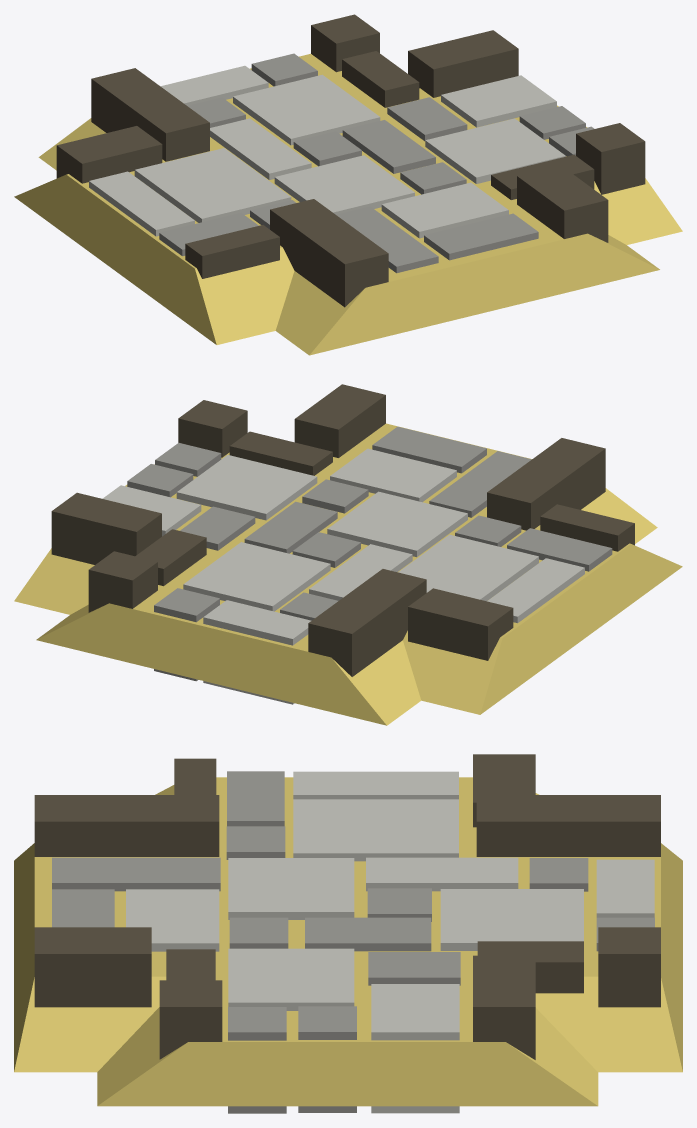
The model's file is stoneroad_fourway.fbx.
3 renders of one model, top to bottom at view 1: azimuth 30°, elevation 25°; view 2: azimuth 150°, elevation 25°; view 3: azimuth 270°, elevation 25°, orthographic. The views are drawn at different scales.
Parts seen in each view (by area): view 1: pCube3; view 2: pCube3; view 3: pCube3.
Part boxes in pixels (x1,y1,x2,y2): pCube3: [14, 14, 682, 355]; pCube3: [14, 384, 682, 725]; pCube3: [14, 754, 682, 1113].
Size of the model in its own units: 106 by 19.07 by 107.
Materials: 1 (1 with a texture image).
